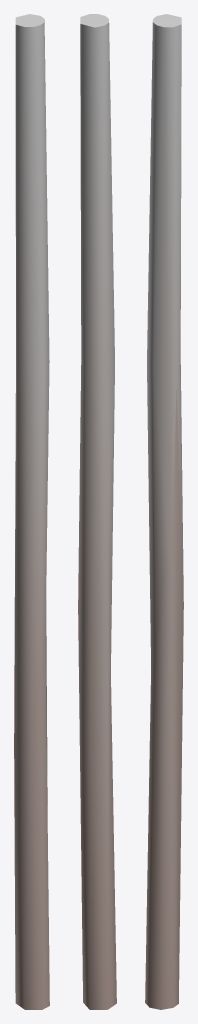
The model's file is electrical_pole.dae.
The picture shows the model from 3 angles, left to right: view 1: azimuth 90°, elevation 25°; view 2: azimuth 150°, elevation 25°; view 3: azimuth 330°, elevation 25°; orthographic projection.
Visible parts, largest first — view 1: Colmesh-1; view 2: Colmesh-1; view 3: Colmesh-1.
Part boxes in pixels (left/top/right/bottom): Colmesh-1: left=14, top=14, right=49, bottom=1009; Colmesh-1: left=78, top=14, right=116, bottom=1009; Colmesh-1: left=145, top=14, right=183, bottom=1009.
Size of the model in its own units: 0.3422 by 0.35 by 10.6.
